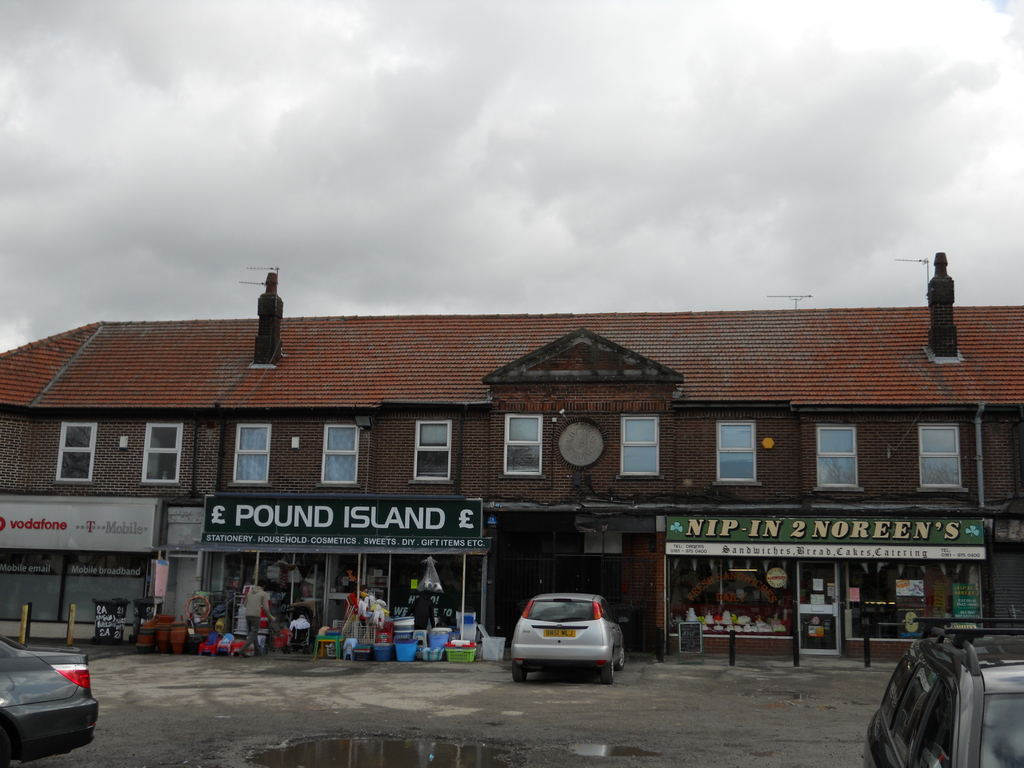Car: (863, 613, 1023, 764), (0, 632, 101, 767), (510, 588, 631, 679)
